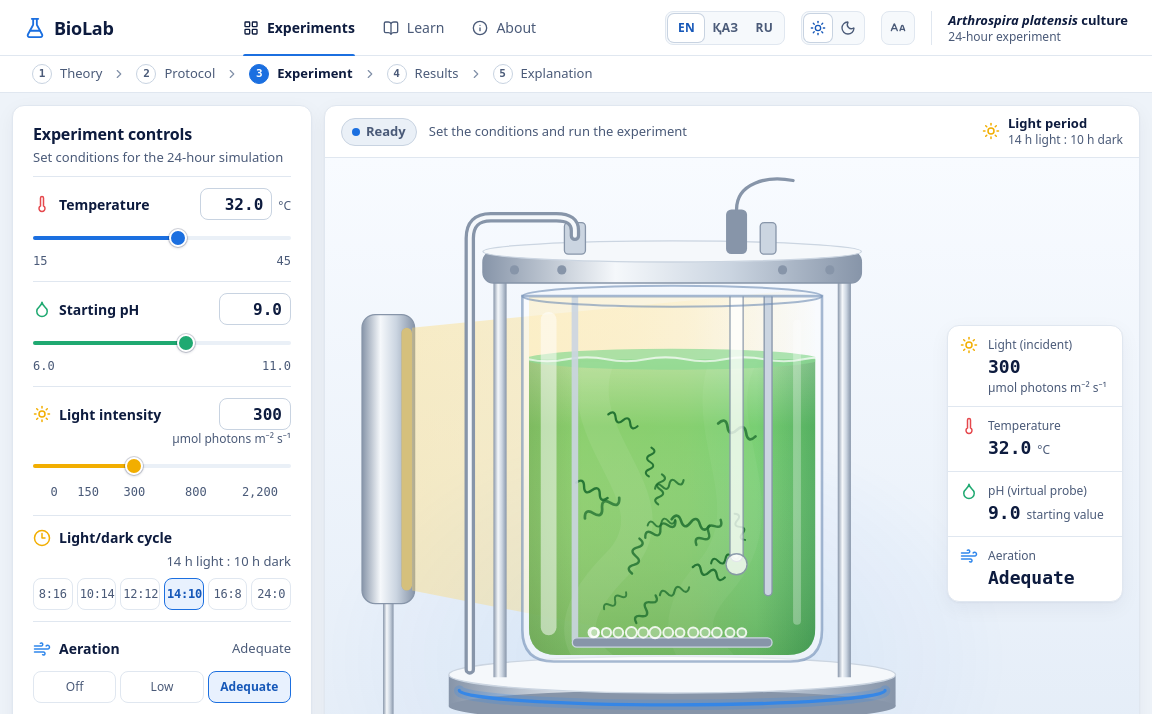
D3 Display settings panel › is localized in Russian and Kazakh
Click the button named "Русский": (764, 28) [746,14,782,42]
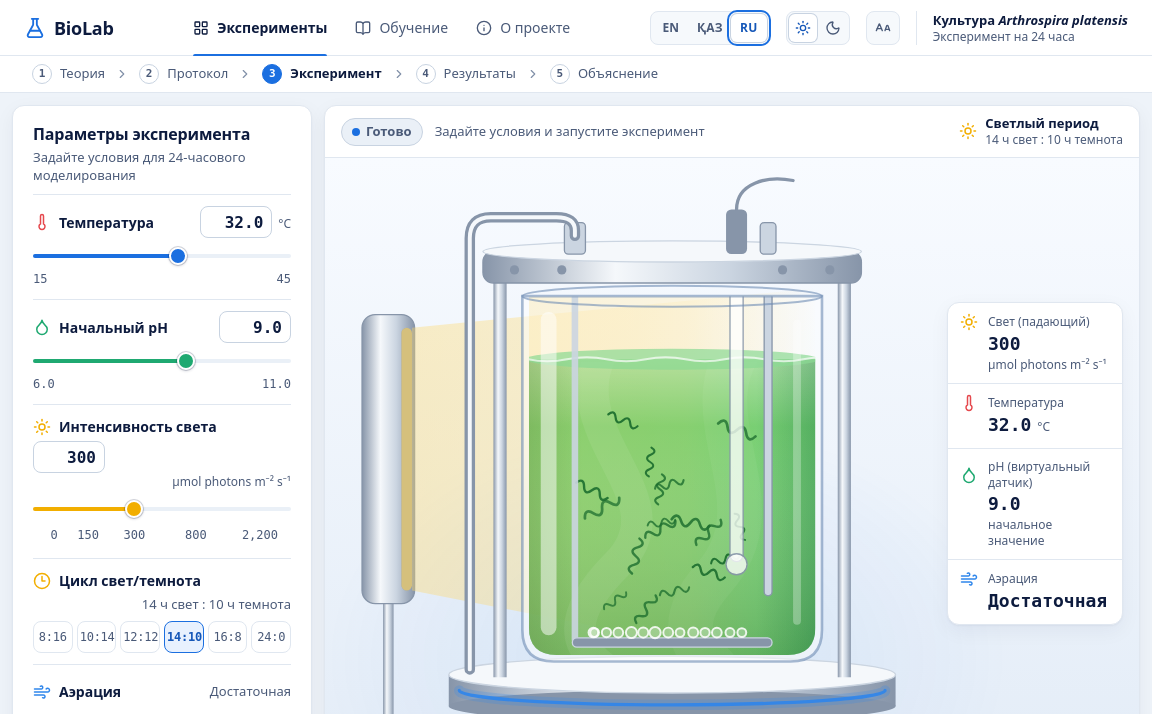
Click the button named "Настройки отображения": (883, 28) [869,14,897,42]
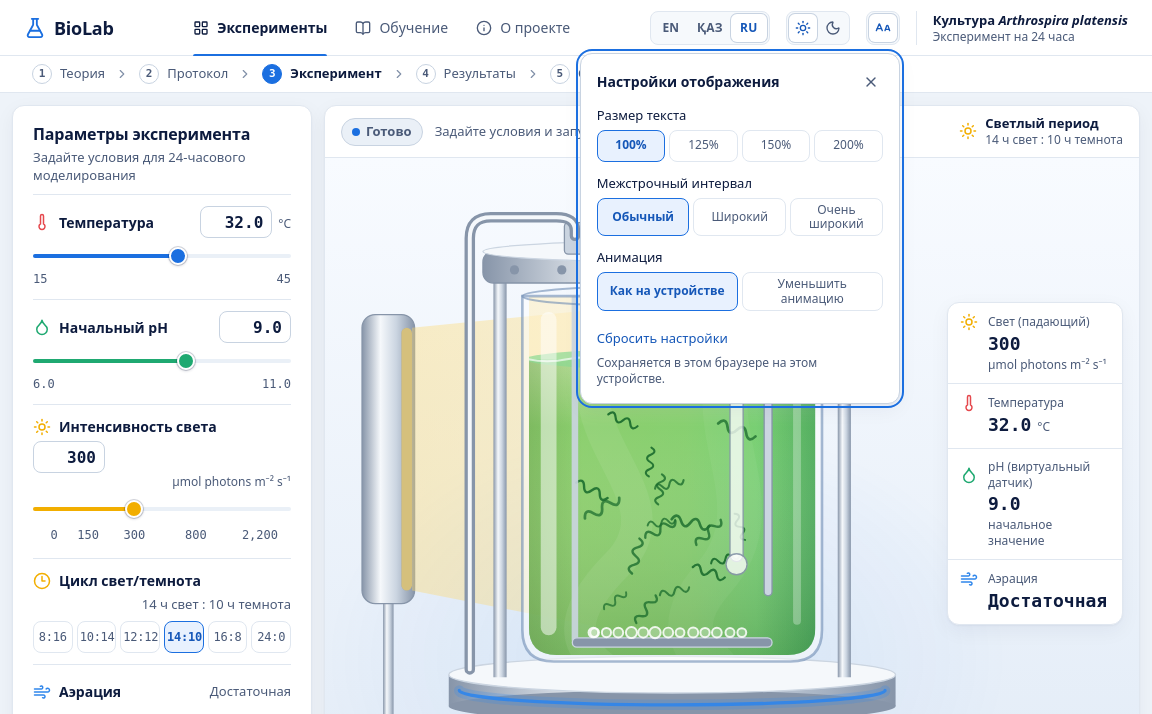
Now the element named "Размер текста" is shown, box [597,130,883,162]
Now the element named "Межстрочный интервал" is shown, box [597,198,883,236]
Now the radio button labelled "Уменьшить анимацию" is shown, box [742,272,883,311]
Note: A click outside the panel (here, on the language switch) closes it (PRD-0005 §1), so it is reopened in Kazakh.
Click the button named "Қазақша": (710, 28) [691,14,729,42]
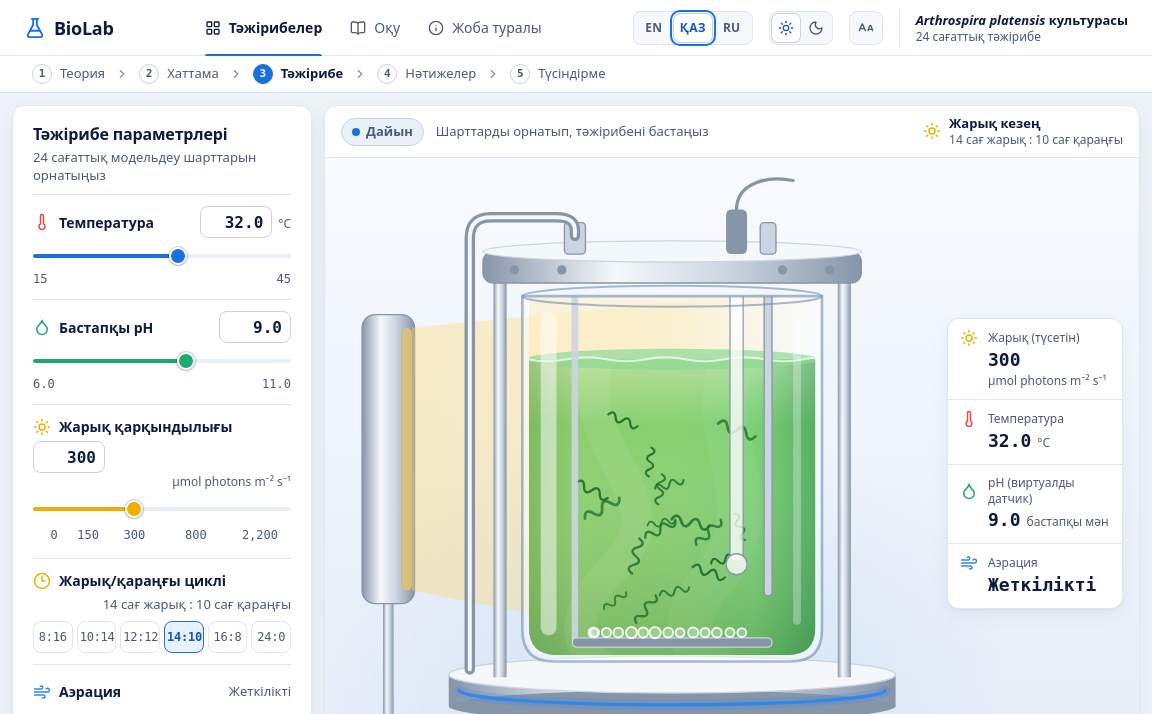
Now the dialog is gone
Click the button named "Көрініс баптаулары": (866, 28) [852,14,880,42]
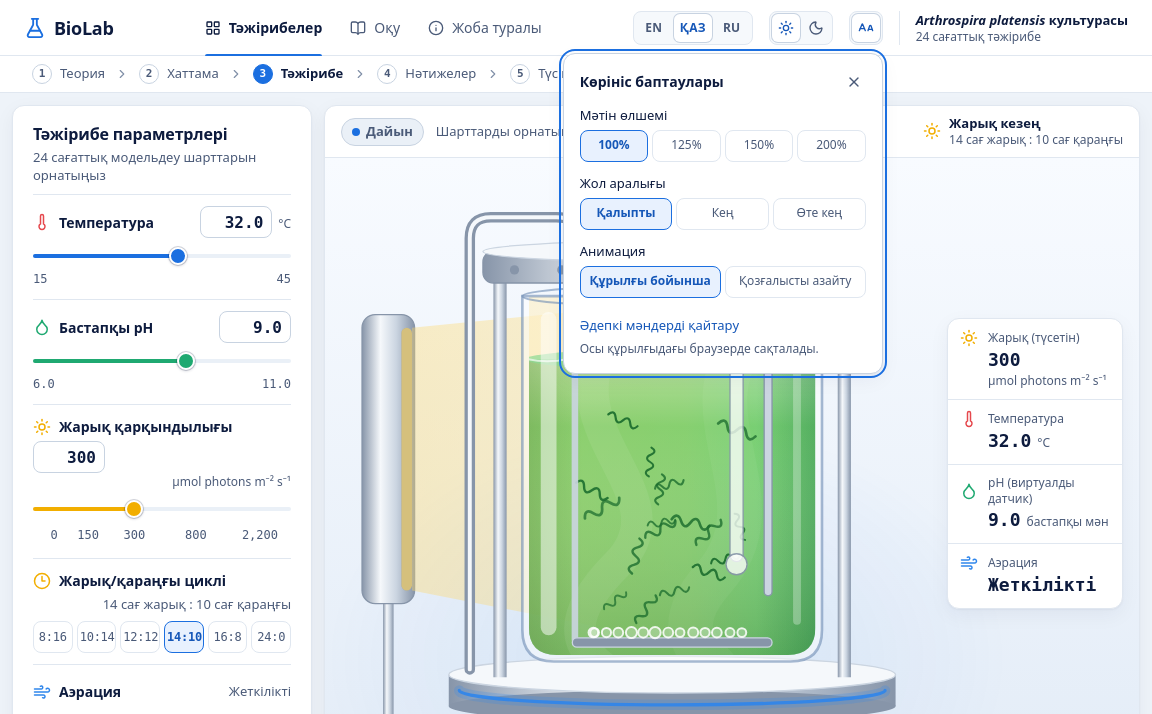
Now the element named "Мәтін өлшемі" is shown, box [580,130,866,162]
Now the radio button labelled "Қозғалысты азайту" is shown, box [725,266,866,298]
